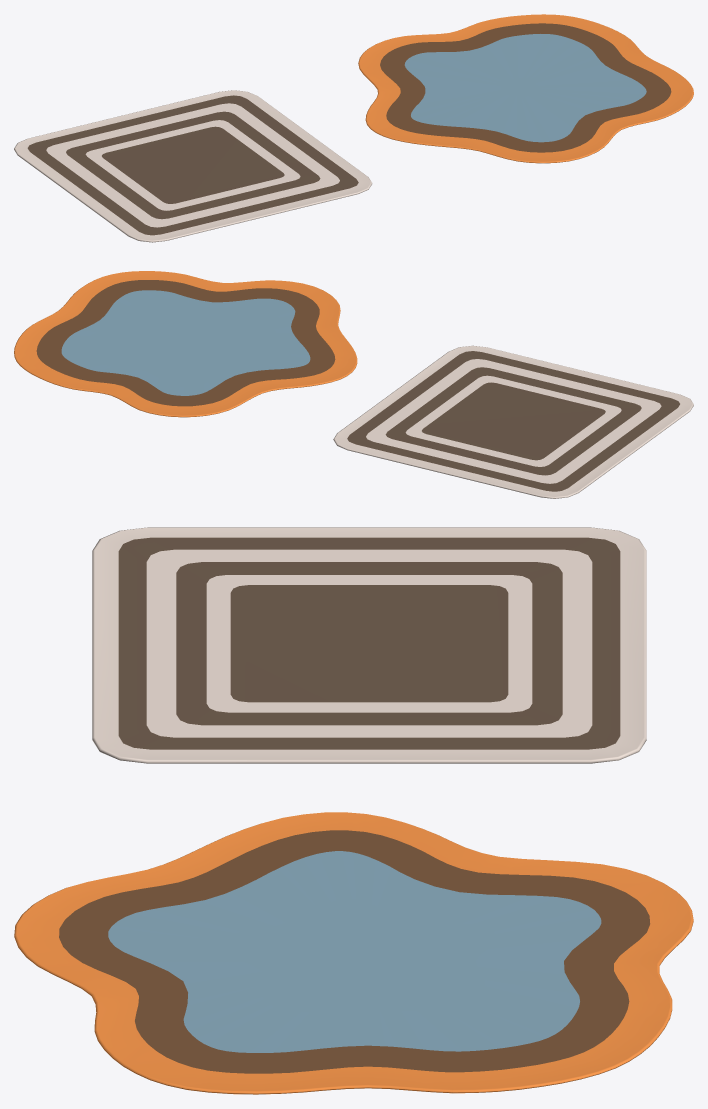
Rendered from Rug.fbx.
The picture shows the model from 3 angles, top to bottom: view 1: azimuth 30°, elevation 25°; view 2: azimuth 150°, elevation 25°; view 3: azimuth 270°, elevation 25°; orthographic projection. The views are drawn at different scales.
Parts seen in each view (by area): view 1: Carpet_2, Carpet_1; view 2: Carpet_2, Carpet_1; view 3: Carpet_2, Carpet_1.
Boxes of the visible parts, x1,y1,x2,y2 form: Carpet_2: (358,14,693,163); Carpet_1: (14,90,372,242); Carpet_2: (14,271,357,417); Carpet_1: (333,345,693,498); Carpet_2: (14,812,693,1094); Carpet_1: (92,527,646,763).
Size of the model in its own units: 621 by 1.95 by 315.
